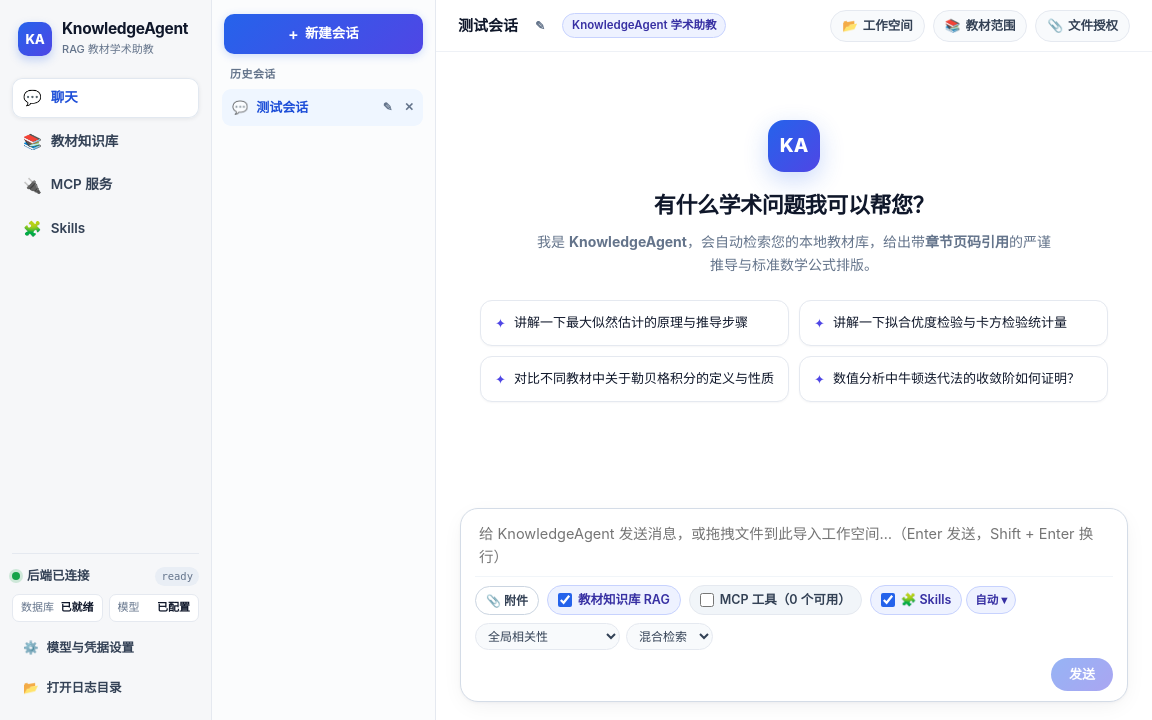
Test case: keeps the active session and SSE draft while the library is open
Replace the text in the text box named "问题" with "测试问题" at coordinates (794, 548), box [475,519,1113,576]
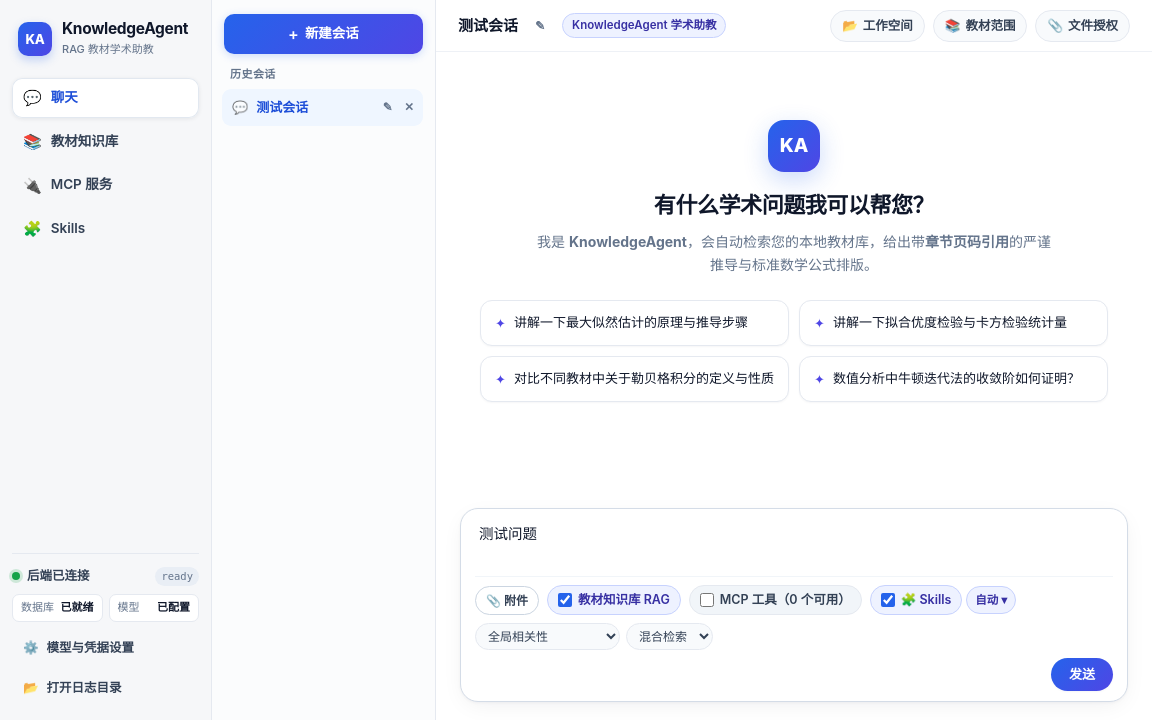
expect the button "发送" is enabled: met
Click the button "发送" at coordinates (1082, 675), box [1051,658,1113,691]
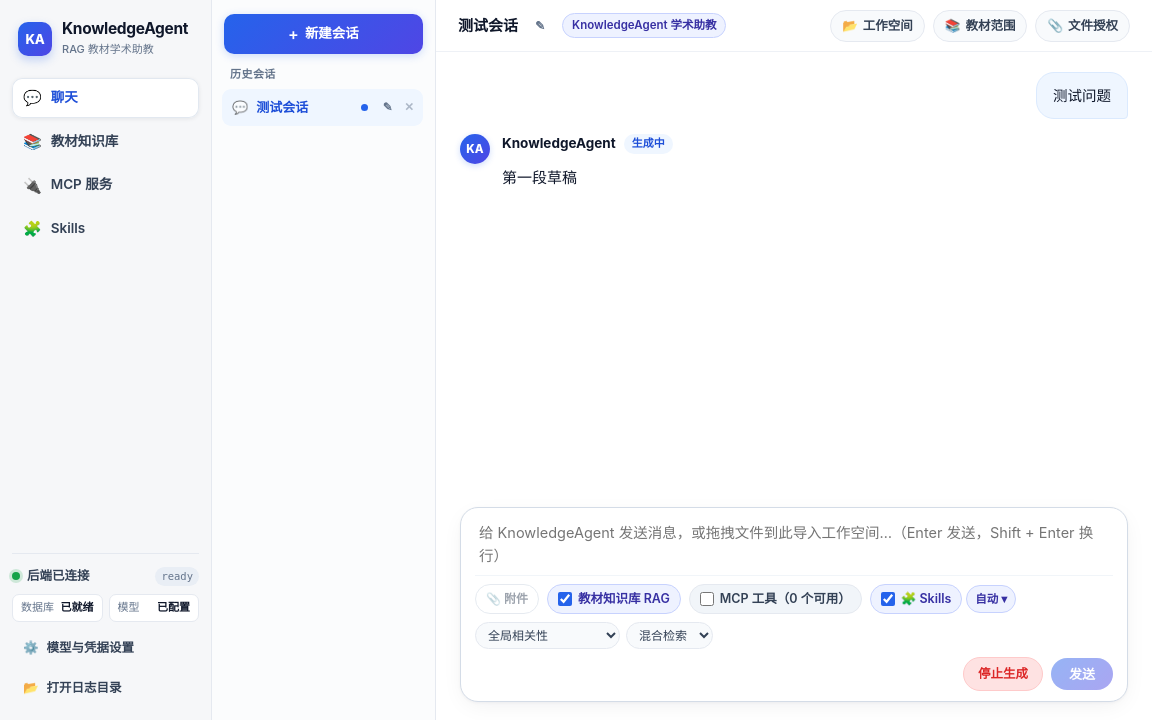
expect the text "第一段草稿" is shown: met, box [502,168,577,187]
Click the button "📚 教材知识库" at coordinates (106, 142), box [12,122,199,161]
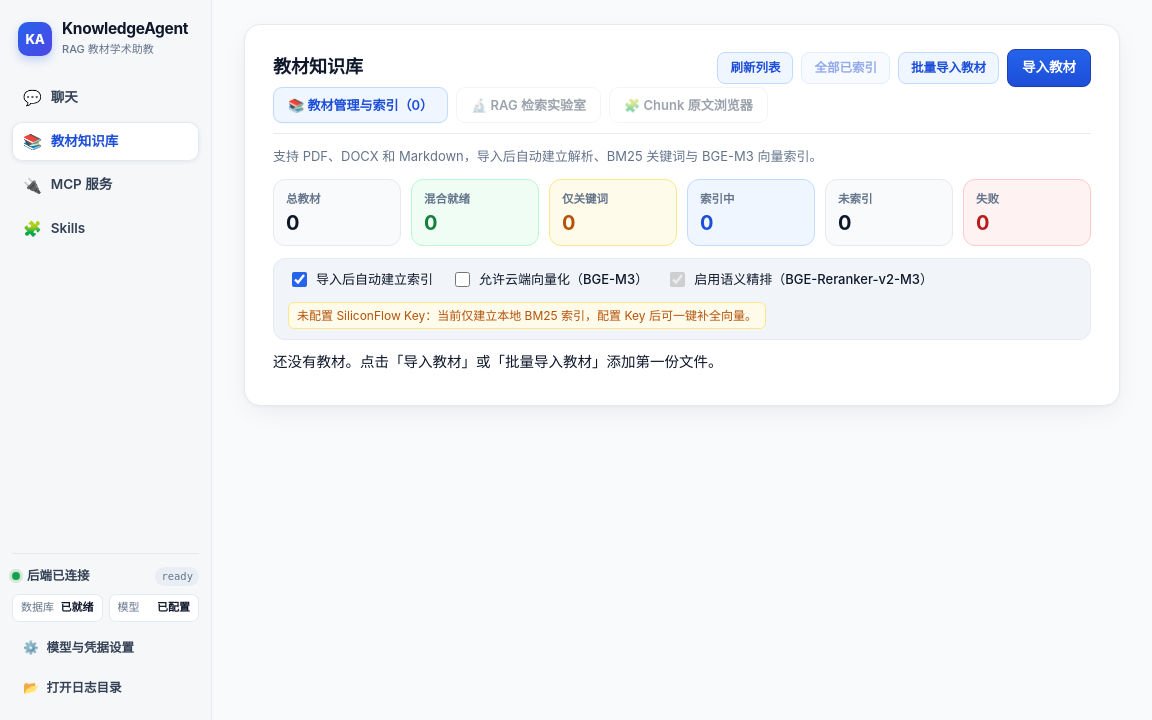
expect the text "还没有教材。点击「导入教材」或「批量导入教材」添加第一份文件。" is shown: met, box [273,353,722,370]
expect the button "停止生成" is gone: met
Click the button "💬 聊天" at coordinates (106, 98), box [12,78,199,118]
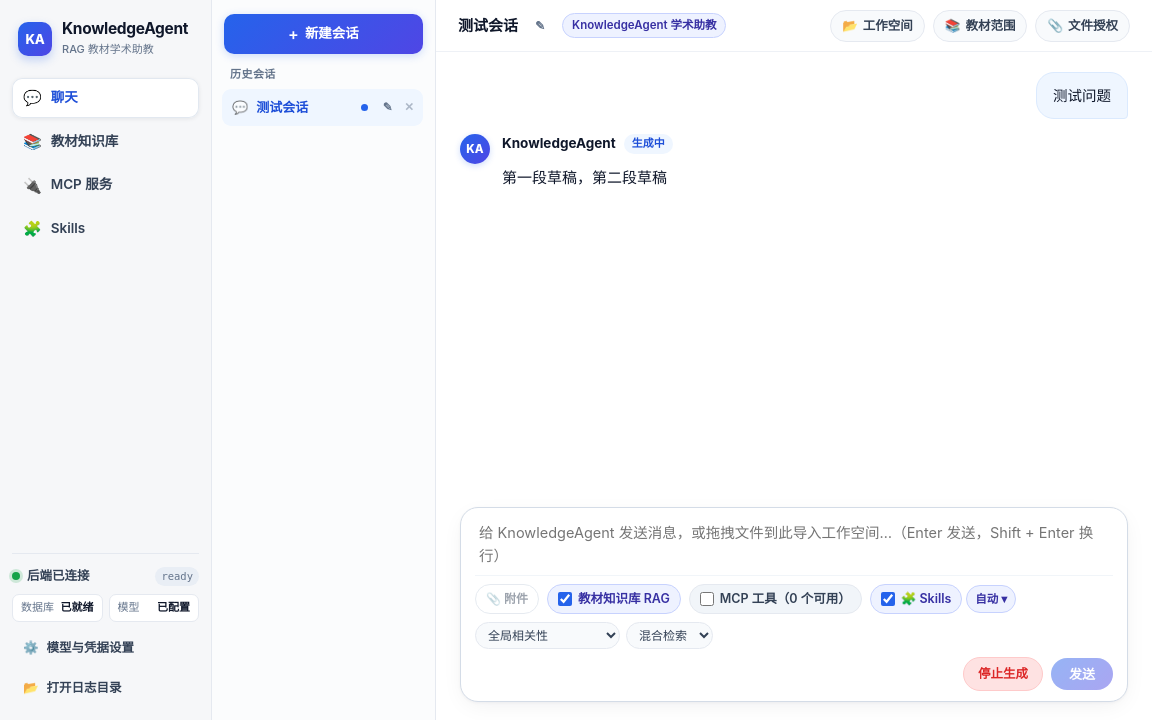
expect the text "第一段草稿，第二段草稿" is shown: met, box [502,168,667,187]
Click the button "🔌 MCP 服务" at coordinates (106, 185), box [12,165,199,205]
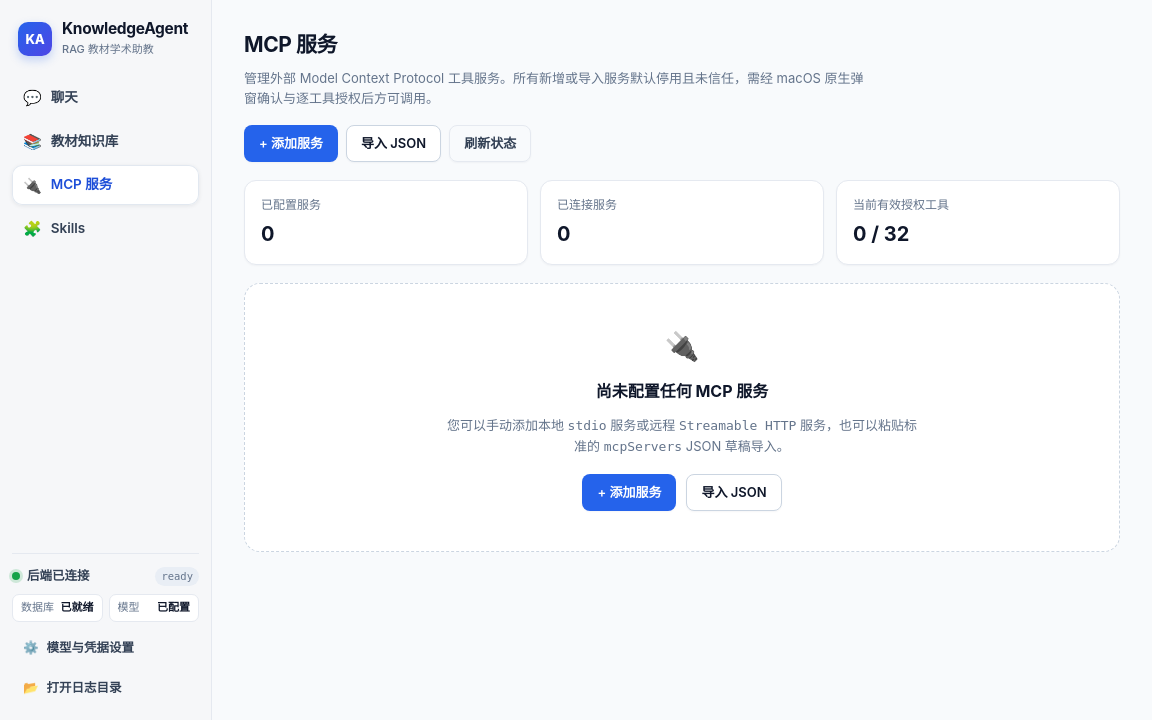
expect the heading "尚未配置任何 MCP 服务" is shown: met, box [596,379,768,405]
Click the button "💬 聊天" at coordinates (106, 98), box [12,78,199,118]
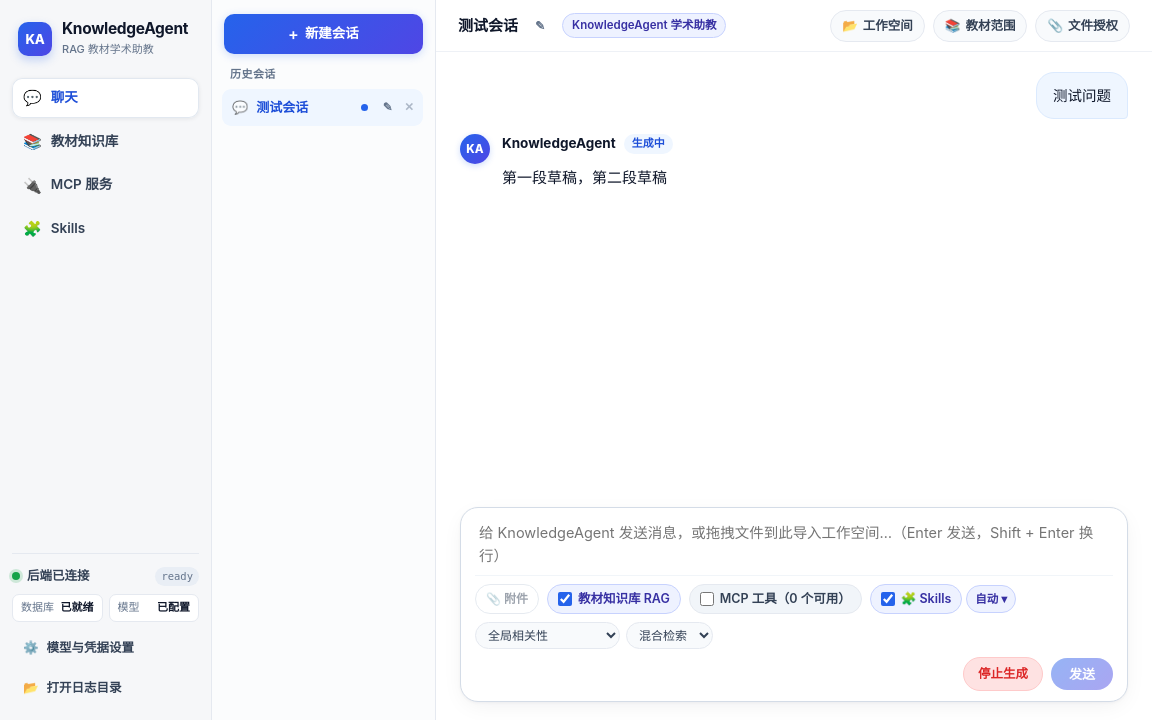
expect the text "第一段草稿，第二段草稿" is shown: met, box [502,168,667,187]
